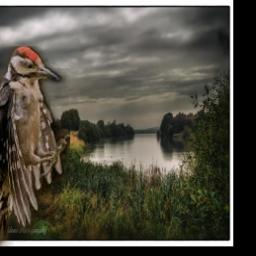Woodpecker: (0, 46, 71, 246)
